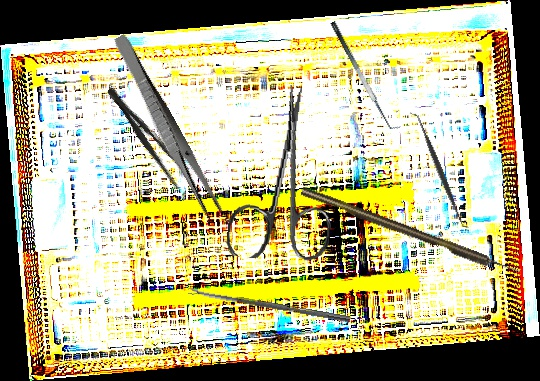Dressing Forceps: (108, 32, 225, 221), (100, 82, 199, 198)
Hook Surgical: (300, 185, 521, 279)
Iris Scissors: (225, 80, 345, 266)
Spatula Surgical: (329, 16, 401, 135), (408, 107, 471, 233)
Surgical Spoon: (187, 286, 351, 323)
